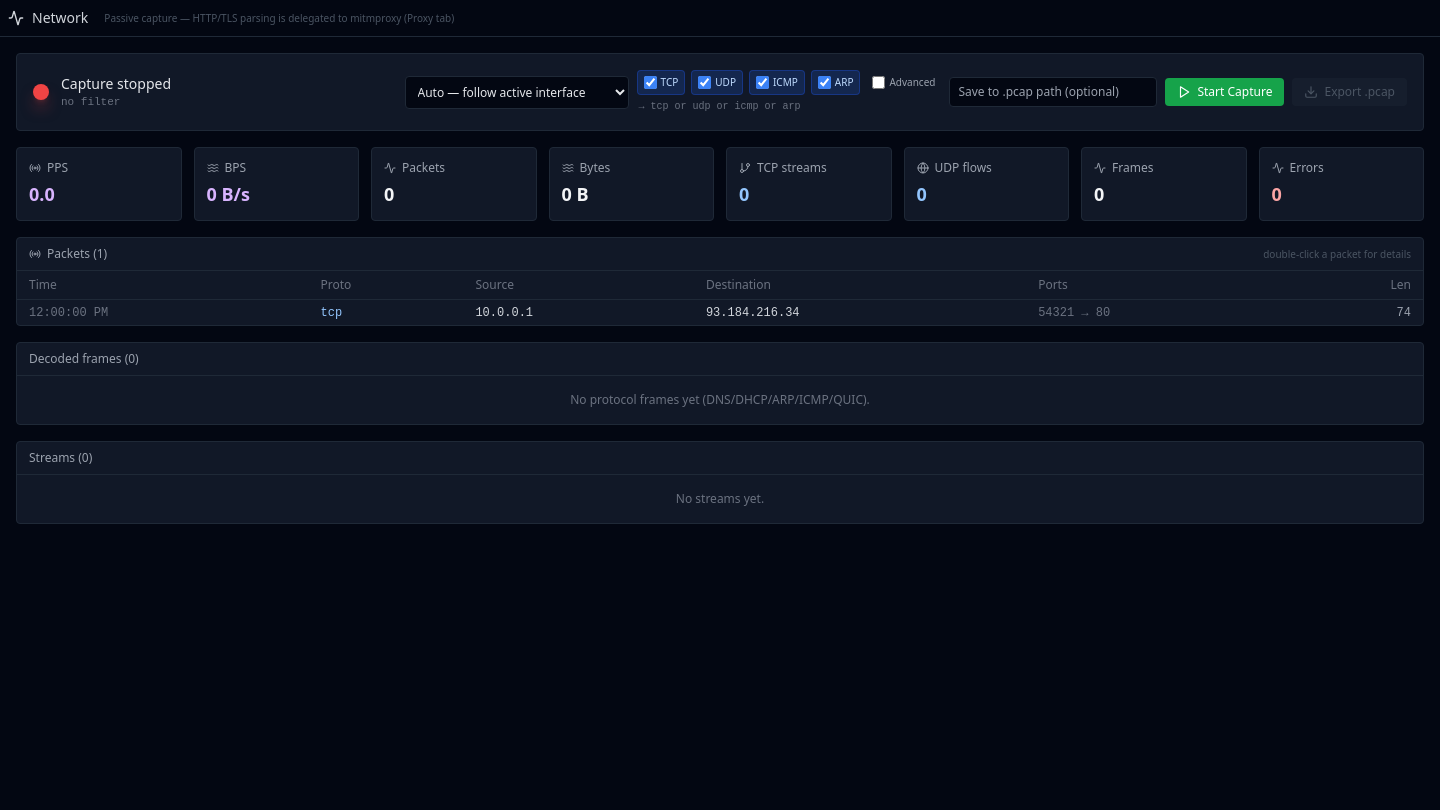
Test: Network — packet detail (double-click, Wireshark-style) › shows a friendly error when the packet left the buffer (404)
Double-click the text "10.0.0.1".
double_click(720, 312)  # box 17,300 -> 1423,325
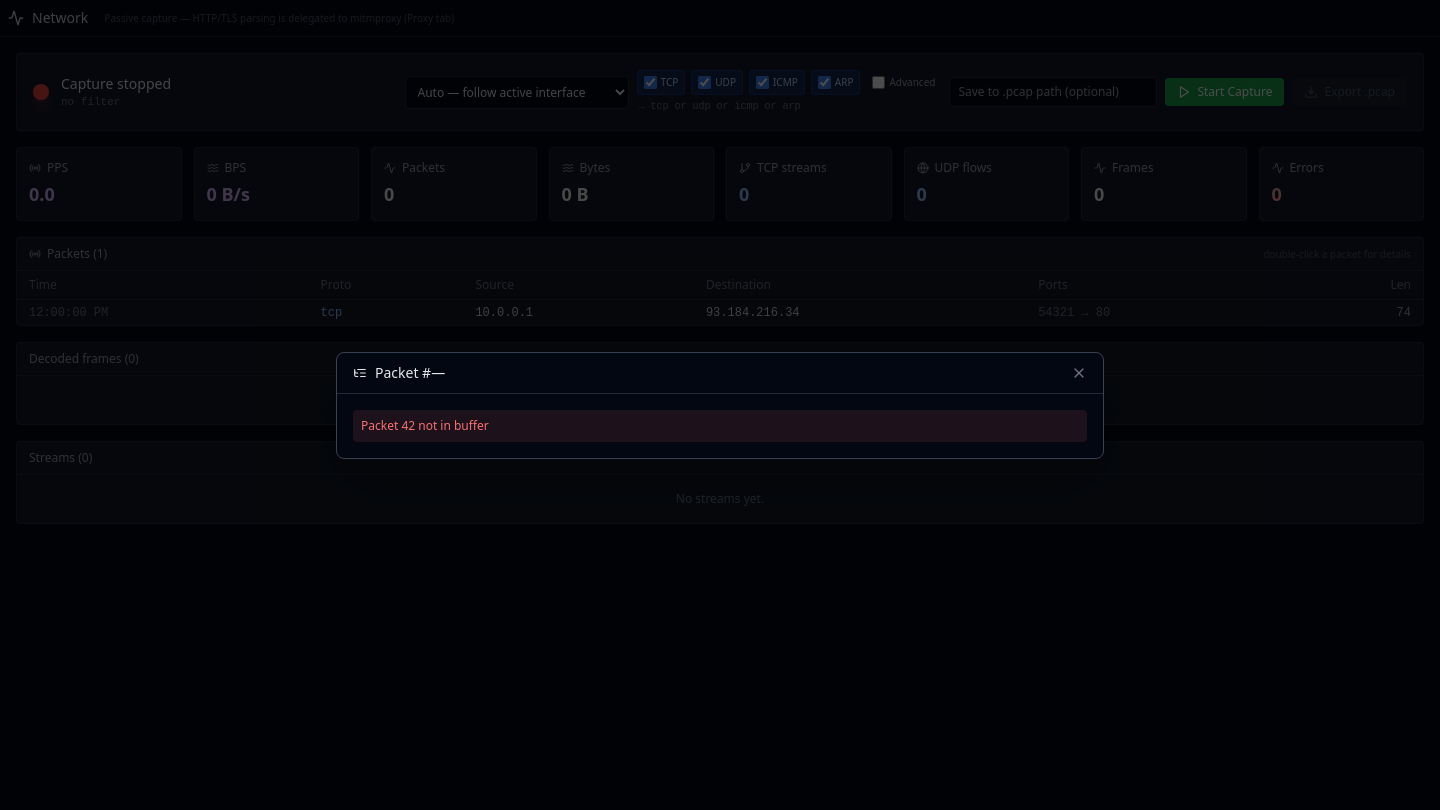
Check: the text "Packet 42 not in buffer" is shown, box 353,410 -> 1087,442
